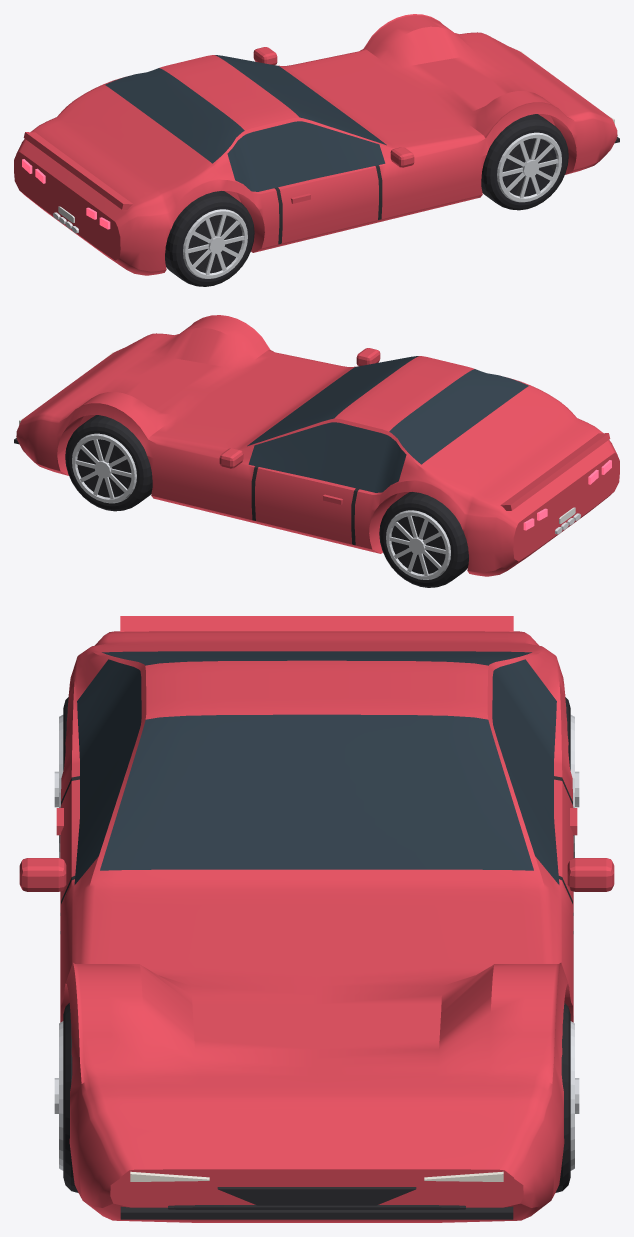
File: chevy_korvette.fbx
3 renders of one model, top to bottom at view 1: azimuth 30°, elevation 25°; view 2: azimuth 150°, elevation 25°; view 3: azimuth 270°, elevation 25°, orthographic. The views are drawn at different scales.
Parts seen in each view (by area): view 1: Body.029, Glass.029, Tire.029, Rim.029, Trim.029, TailLight.029; view 2: Body.029, Glass.029, Tire.029, Rim.029, Trim.029, TailLight.029; view 3: Body.029, Glass.029, Trim.029, Tire.029, Rim.029, HeadLight.029.
Boxes of the visible parts, <box> form: Body.029: <box>14,14,617,275</box>; Glass.029: <box>105,55,386,191</box>; Tire.029: <box>165,114,568,286</box>; Rim.029: <box>183,132,561,278</box>; Trim.029: <box>189,137,619,272</box>; TailLight.029: <box>22,159,110,229</box>; Body.029: <box>16,315,619,576</box>; Glass.029: <box>247,356,528,492</box>; Tire.029: <box>65,415,468,587</box>; Rim.029: <box>72,433,450,579</box>; Trim.029: <box>14,438,445,573</box>; TailLight.029: <box>523,460,611,530</box>; Body.029: <box>19,616,614,1222</box>; Glass.029: <box>74,651,559,884</box>; Trim.029: <box>60,776,573,1219</box>; Tire.029: <box>63,697,570,1192</box>; Rim.029: <box>54,715,579,1170</box>; HeadLight.029: <box>130,1171,503,1181</box>.
Size of the model in its own units: 1502 by 378 by 764.
